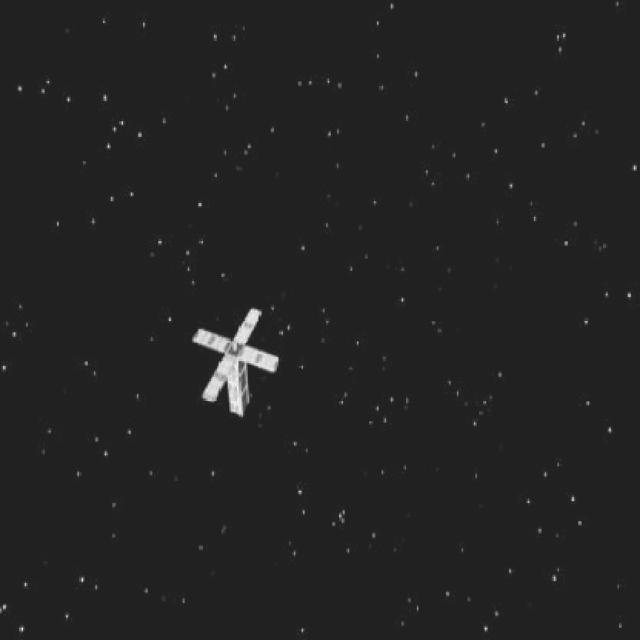satellite: (176, 296, 294, 425)
